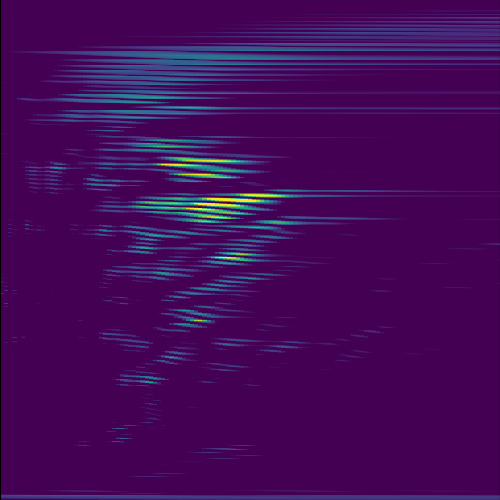semblance: (179, 188, 296, 226), (155, 156, 255, 182)
